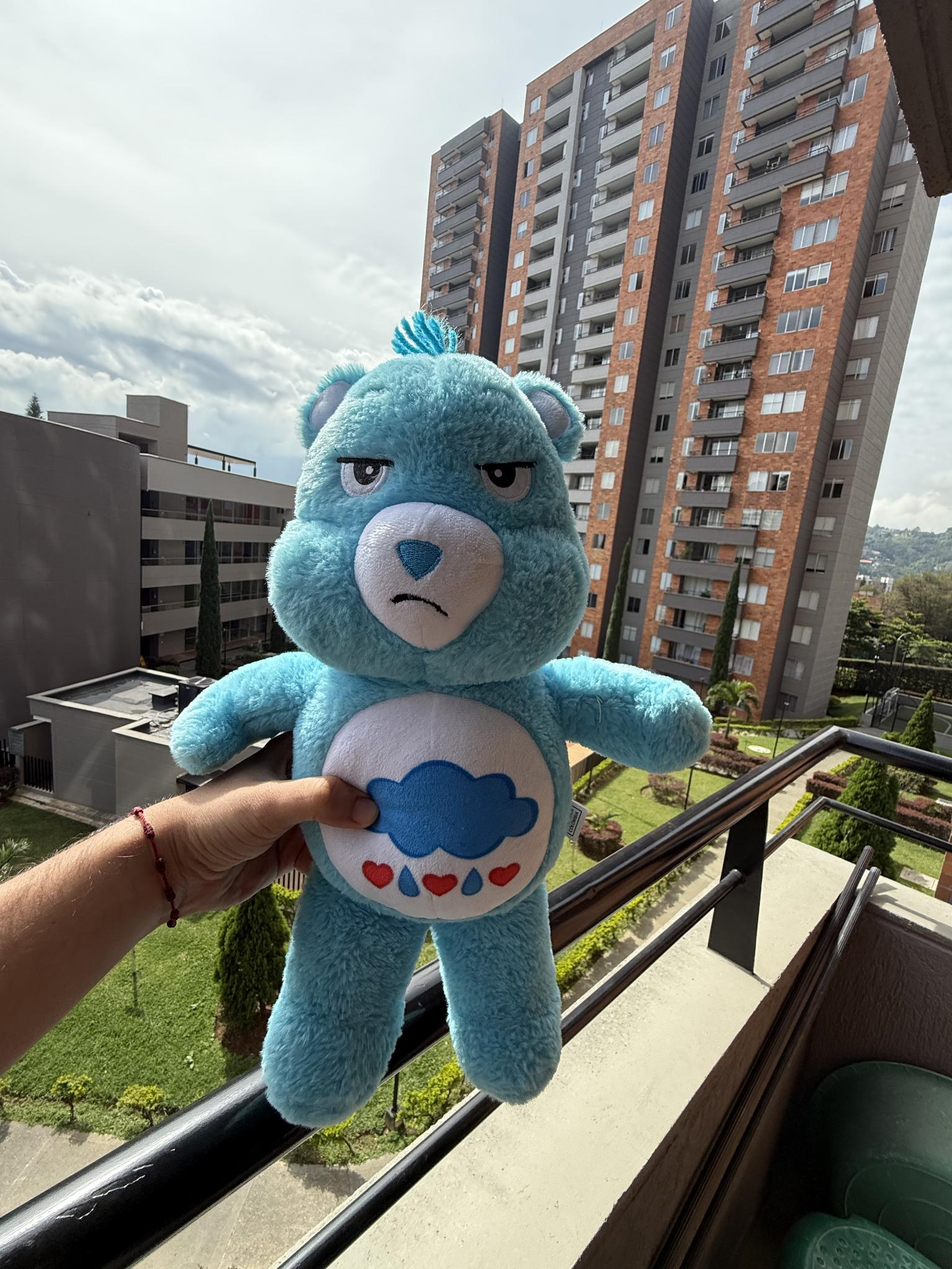peluche_Juan Jose: (261, 334, 593, 1130)
